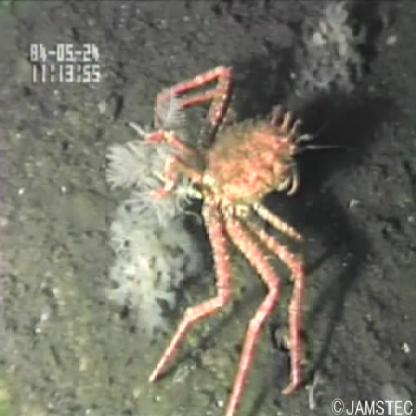Bio: (97, 59, 317, 416)
